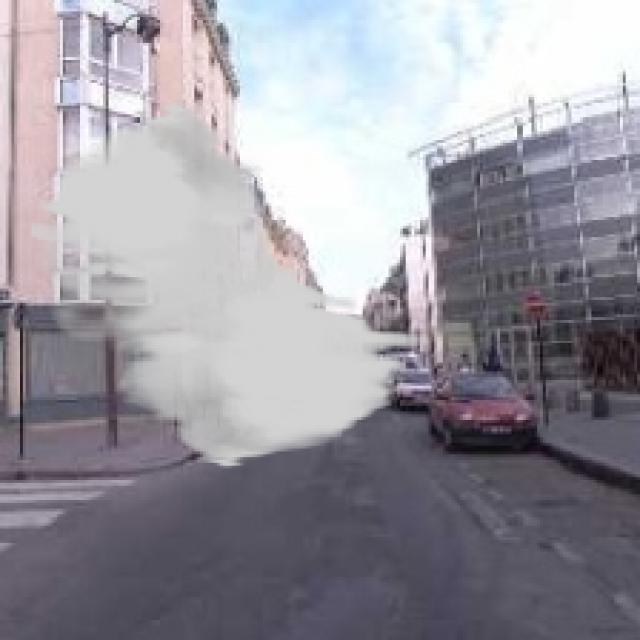smoke: (29, 100, 420, 469)
